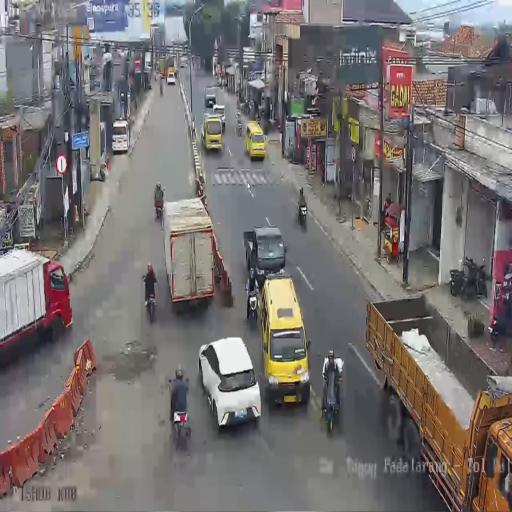car: (259, 276, 311, 404), (198, 336, 261, 430), (243, 222, 286, 284), (245, 122, 266, 161), (112, 118, 130, 154), (211, 103, 226, 134), (204, 86, 217, 108), (166, 71, 176, 85)
motorcycle: (450, 257, 487, 300), (322, 365, 342, 433), (170, 392, 192, 450), (490, 294, 511, 340), (144, 282, 158, 322), (246, 292, 258, 328), (154, 194, 164, 221), (298, 201, 307, 230)
truck: (362, 296, 511, 511), (162, 198, 217, 312)
